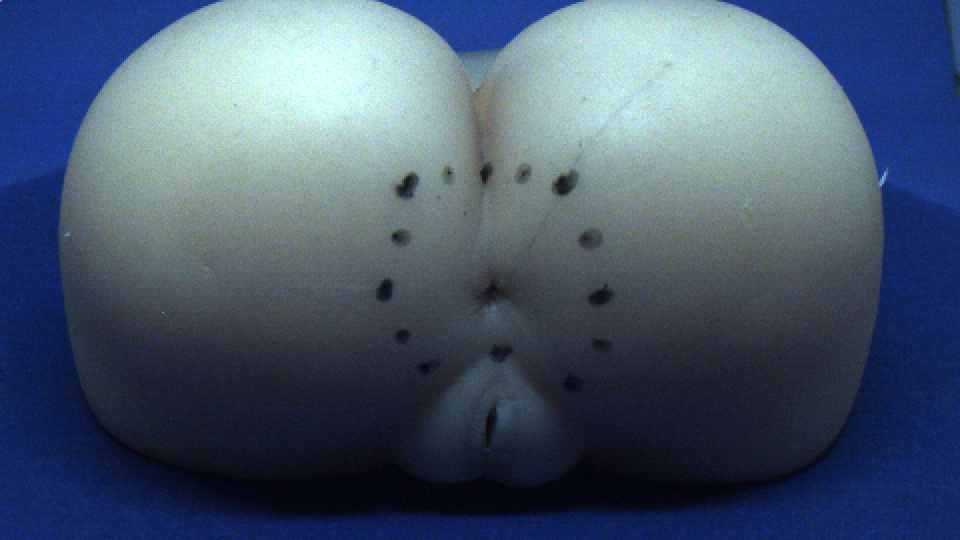asarp_marker: (393, 169, 425, 202), (576, 224, 610, 251), (553, 169, 584, 198), (585, 281, 619, 306), (510, 156, 534, 189), (373, 276, 397, 304), (590, 332, 615, 358), (488, 341, 514, 366), (419, 354, 446, 378), (388, 226, 416, 246), (438, 163, 460, 186), (566, 374, 586, 398), (392, 324, 410, 348), (480, 160, 495, 182)
